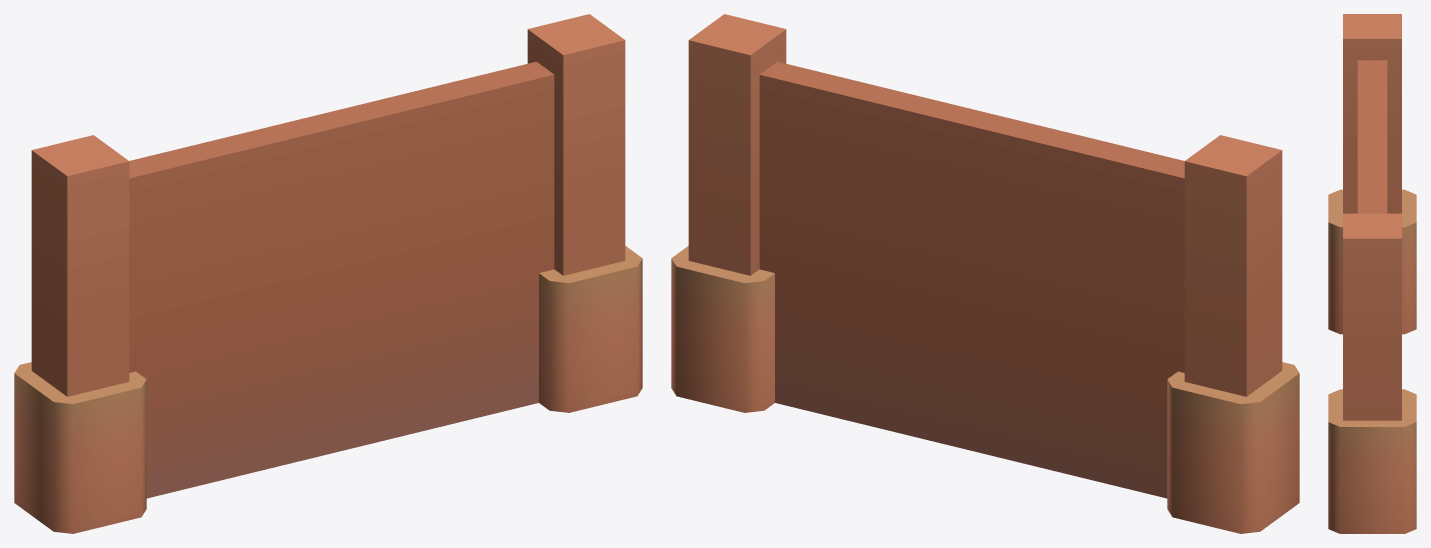
File: sub_fence.glb
3 views of the same model, side by side, from view 1: azimuth 30°, elevation 25°; view 2: azimuth 150°, elevation 25°; view 3: azimuth 270°, elevation 25° (orthographic). The views are drawn at different scales.
Visible parts, largest first — view 1: fence; view 2: fence; view 3: fence.
Part boxes in pixels (box(x1,y1,x2,y2)): fence: box(14, 14, 642, 533); fence: box(671, 14, 1299, 533); fence: box(1328, 14, 1416, 533).
Size of the model in its own units: 0.475 by 0.27 by 0.075.
Materials: 1 (1 with a texture image).
